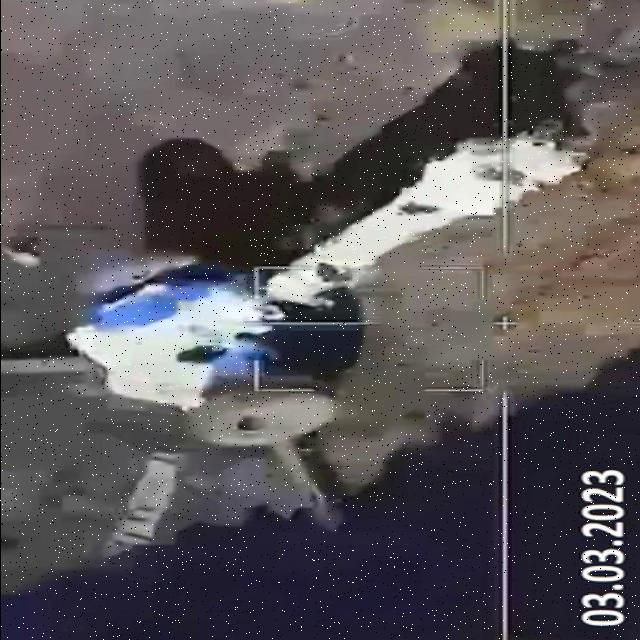ART: (18, 121, 596, 534)
